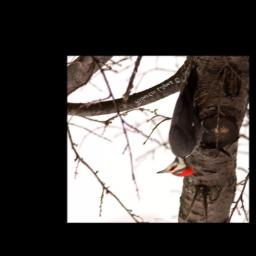Woodpecker: (154, 63, 207, 177)
